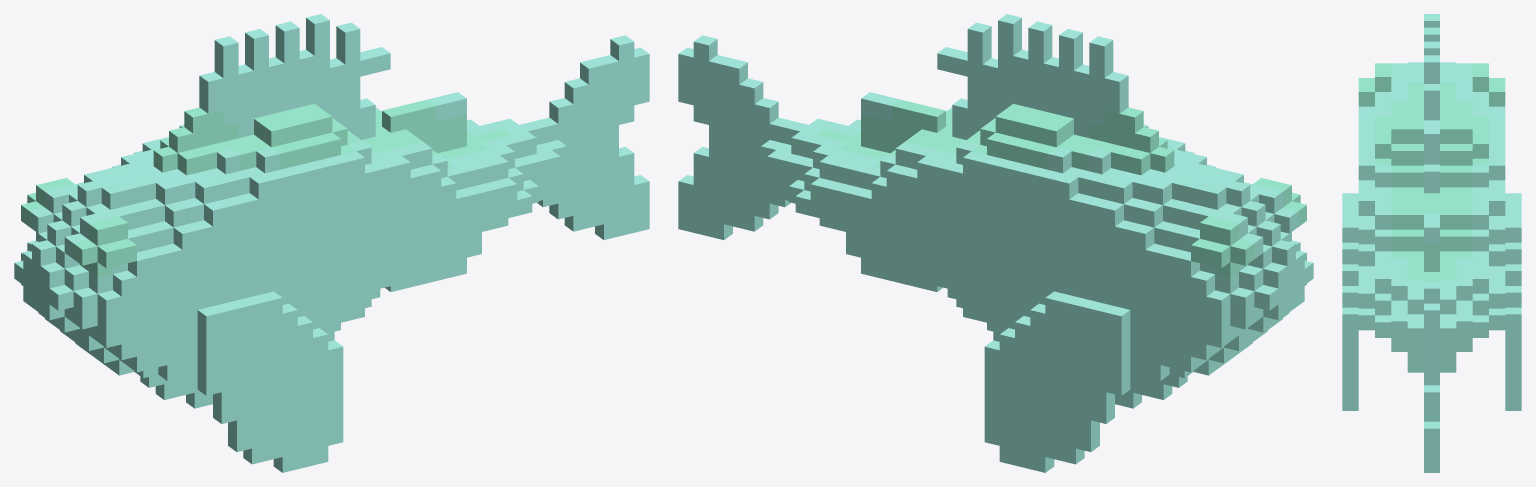
The model's file is SeaOkun.obj.
The picture shows the model from 3 angles, left to right: view 1: azimuth 30°, elevation 25°; view 2: azimuth 150°, elevation 25°; view 3: azimuth 270°, elevation 25°; orthographic projection. The views are drawn at different scales.
Bounding box in the file's own units: 4 × 2.5 × 1.1.
